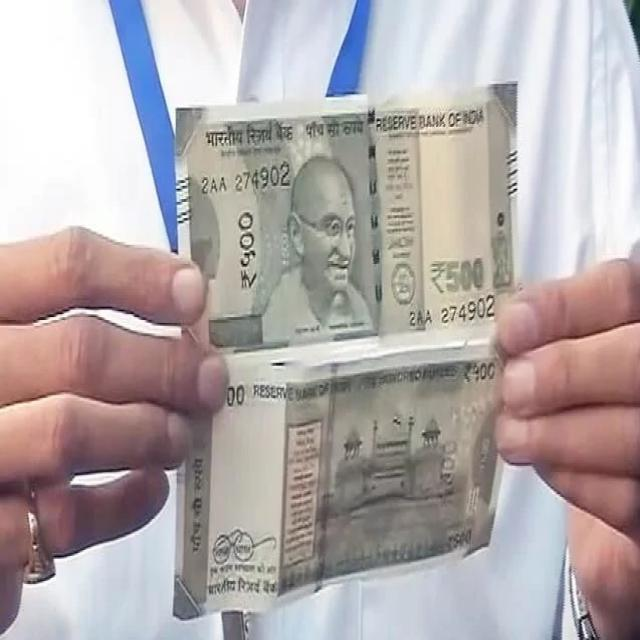500IndianRupees: (176, 365, 505, 564)
